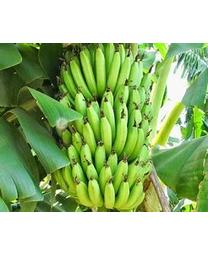banana: (52, 43, 154, 209)
